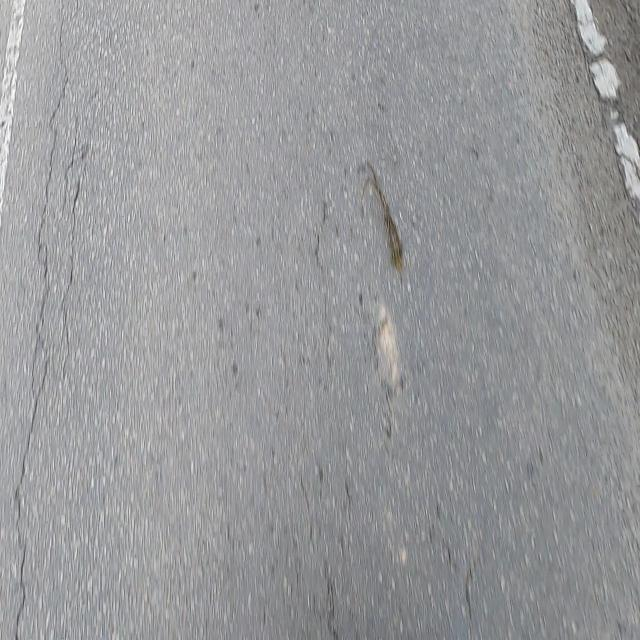Retak-Memanjang: (12, 17, 72, 640), (61, 176, 84, 371)
